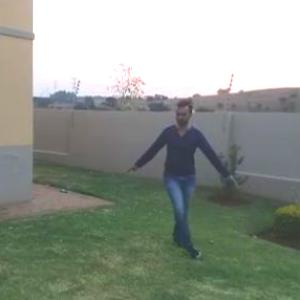land: (131, 87, 245, 269)
